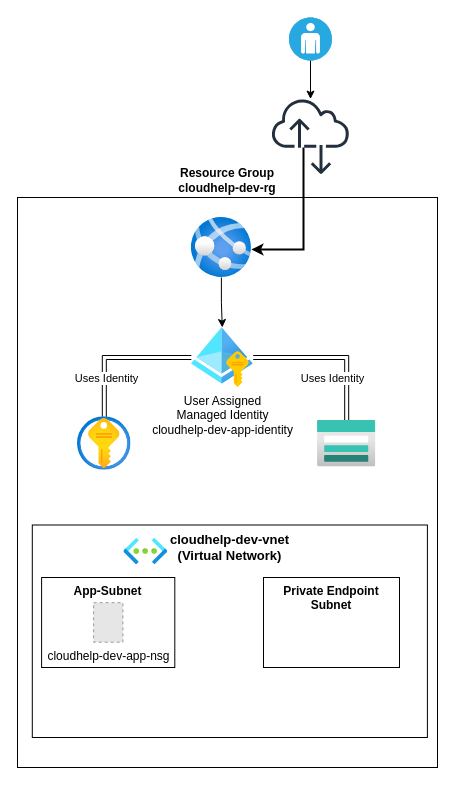
The diagram is 455 pixels wide and 785 high, and some of its shapes have lost their labels. Grey dashed boxes stand in for pictures. Here are the shapes that lost their labels. From the top down, the centre of each, then its label:
(x=221, y=247): Azure App Service
(x=103, y=443): Azure Key Vault
(x=346, y=443): Storage Account
